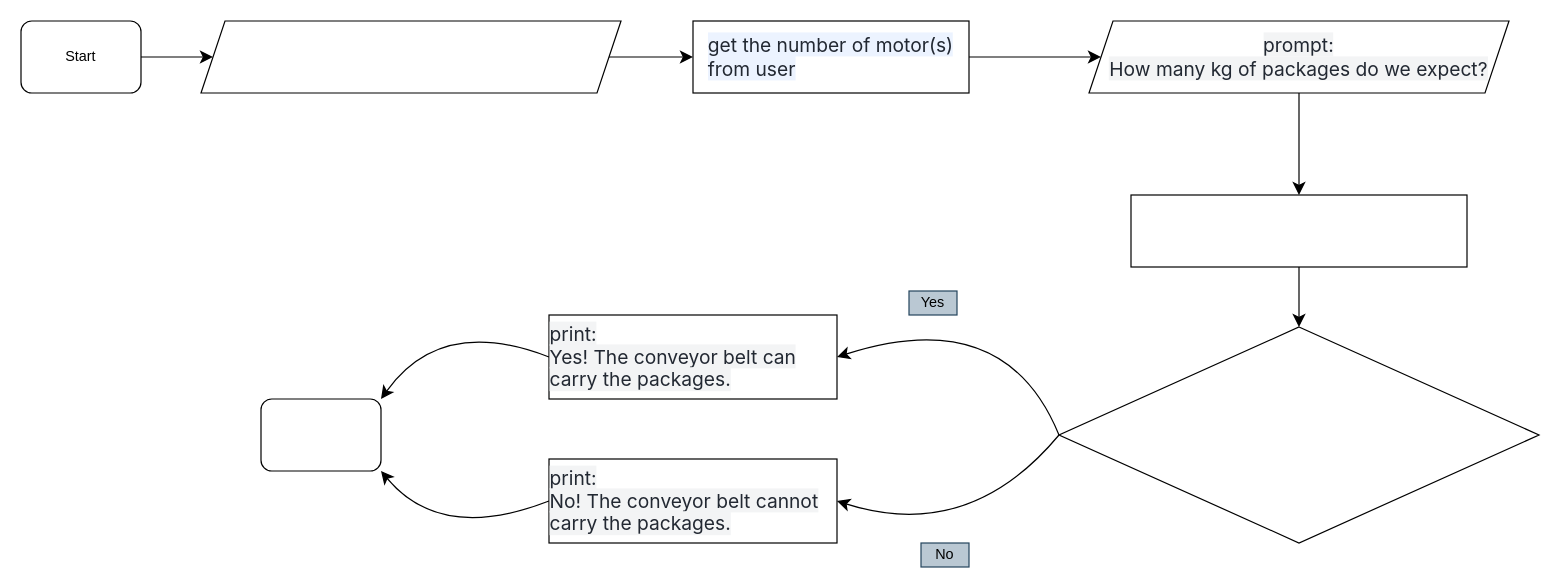
This 1560x588 diagram has some shape labels left out. Each missing label, with the centre of its shape:
End: point (320, 434)
get the total weight of packages from user: point (1298, 230)
is the total weight / number of motor <=5.6: point (1298, 434)
prompt: How many motors are carrying the packages?: point (410, 56)
